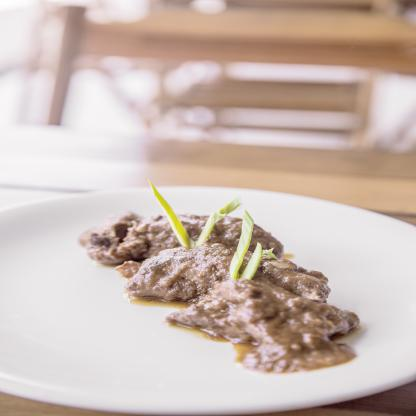Carne: (165, 278, 366, 353), (130, 242, 325, 308), (88, 212, 278, 274)
